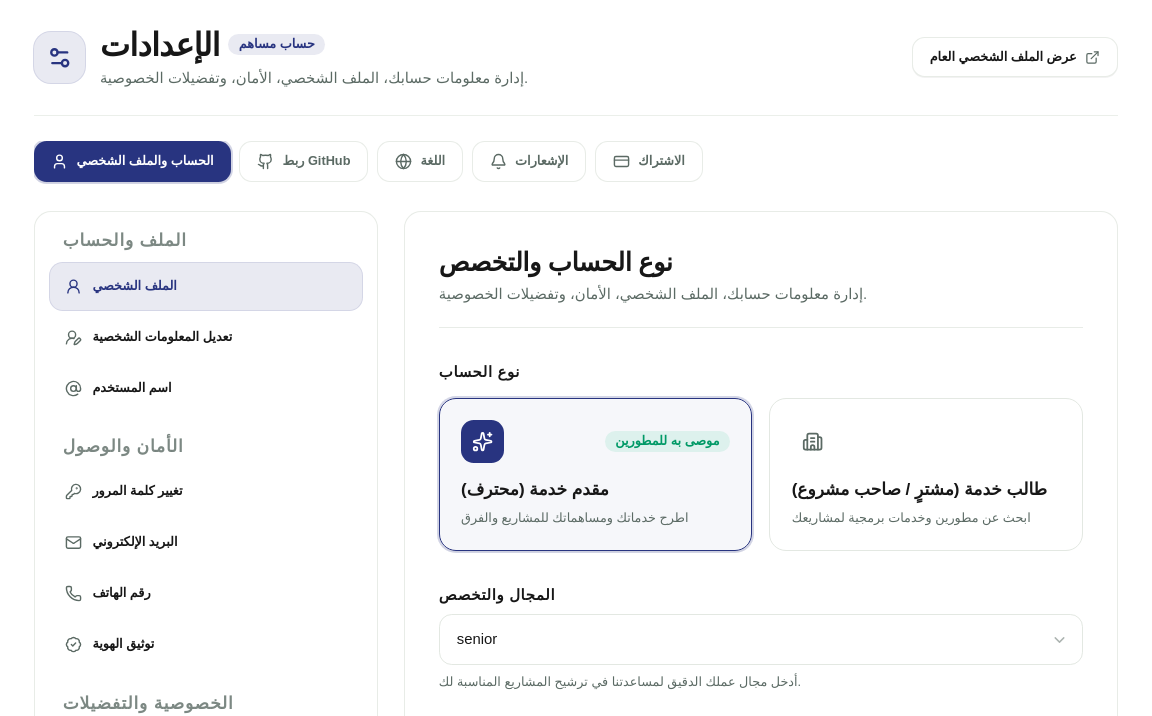
Scenario: PersonalInformationSettingsPage › switches to the password sub-tab and shows requirements checklist
What coordinates should you click on to do the following:
click the button "تغيير كلمة المرور"
I would click on:
 (137, 491)
Its box is x1=50 y1=468 x2=362 y2=515.
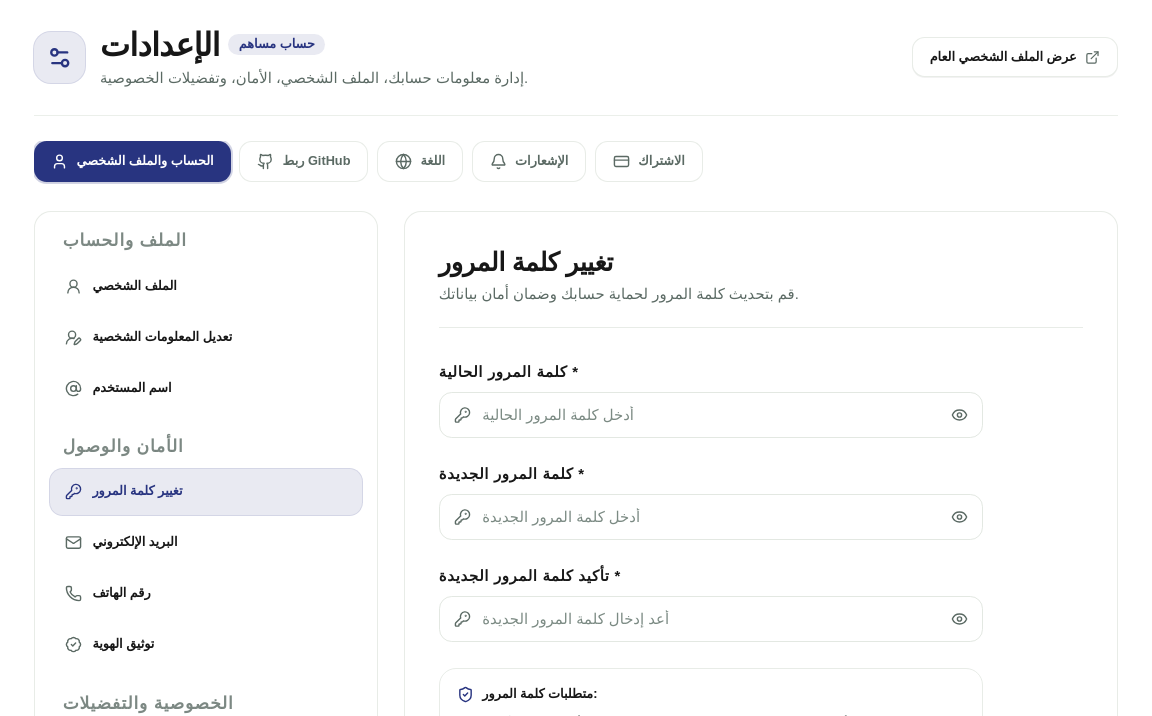
Check: the text "تغيير كلمة المرور" is shown, box x1=92 y1=483 x2=183 y2=500
Check: the text "متطلبات كلمة المرور:" is shown, box x1=482 y1=686 x2=597 y2=703
